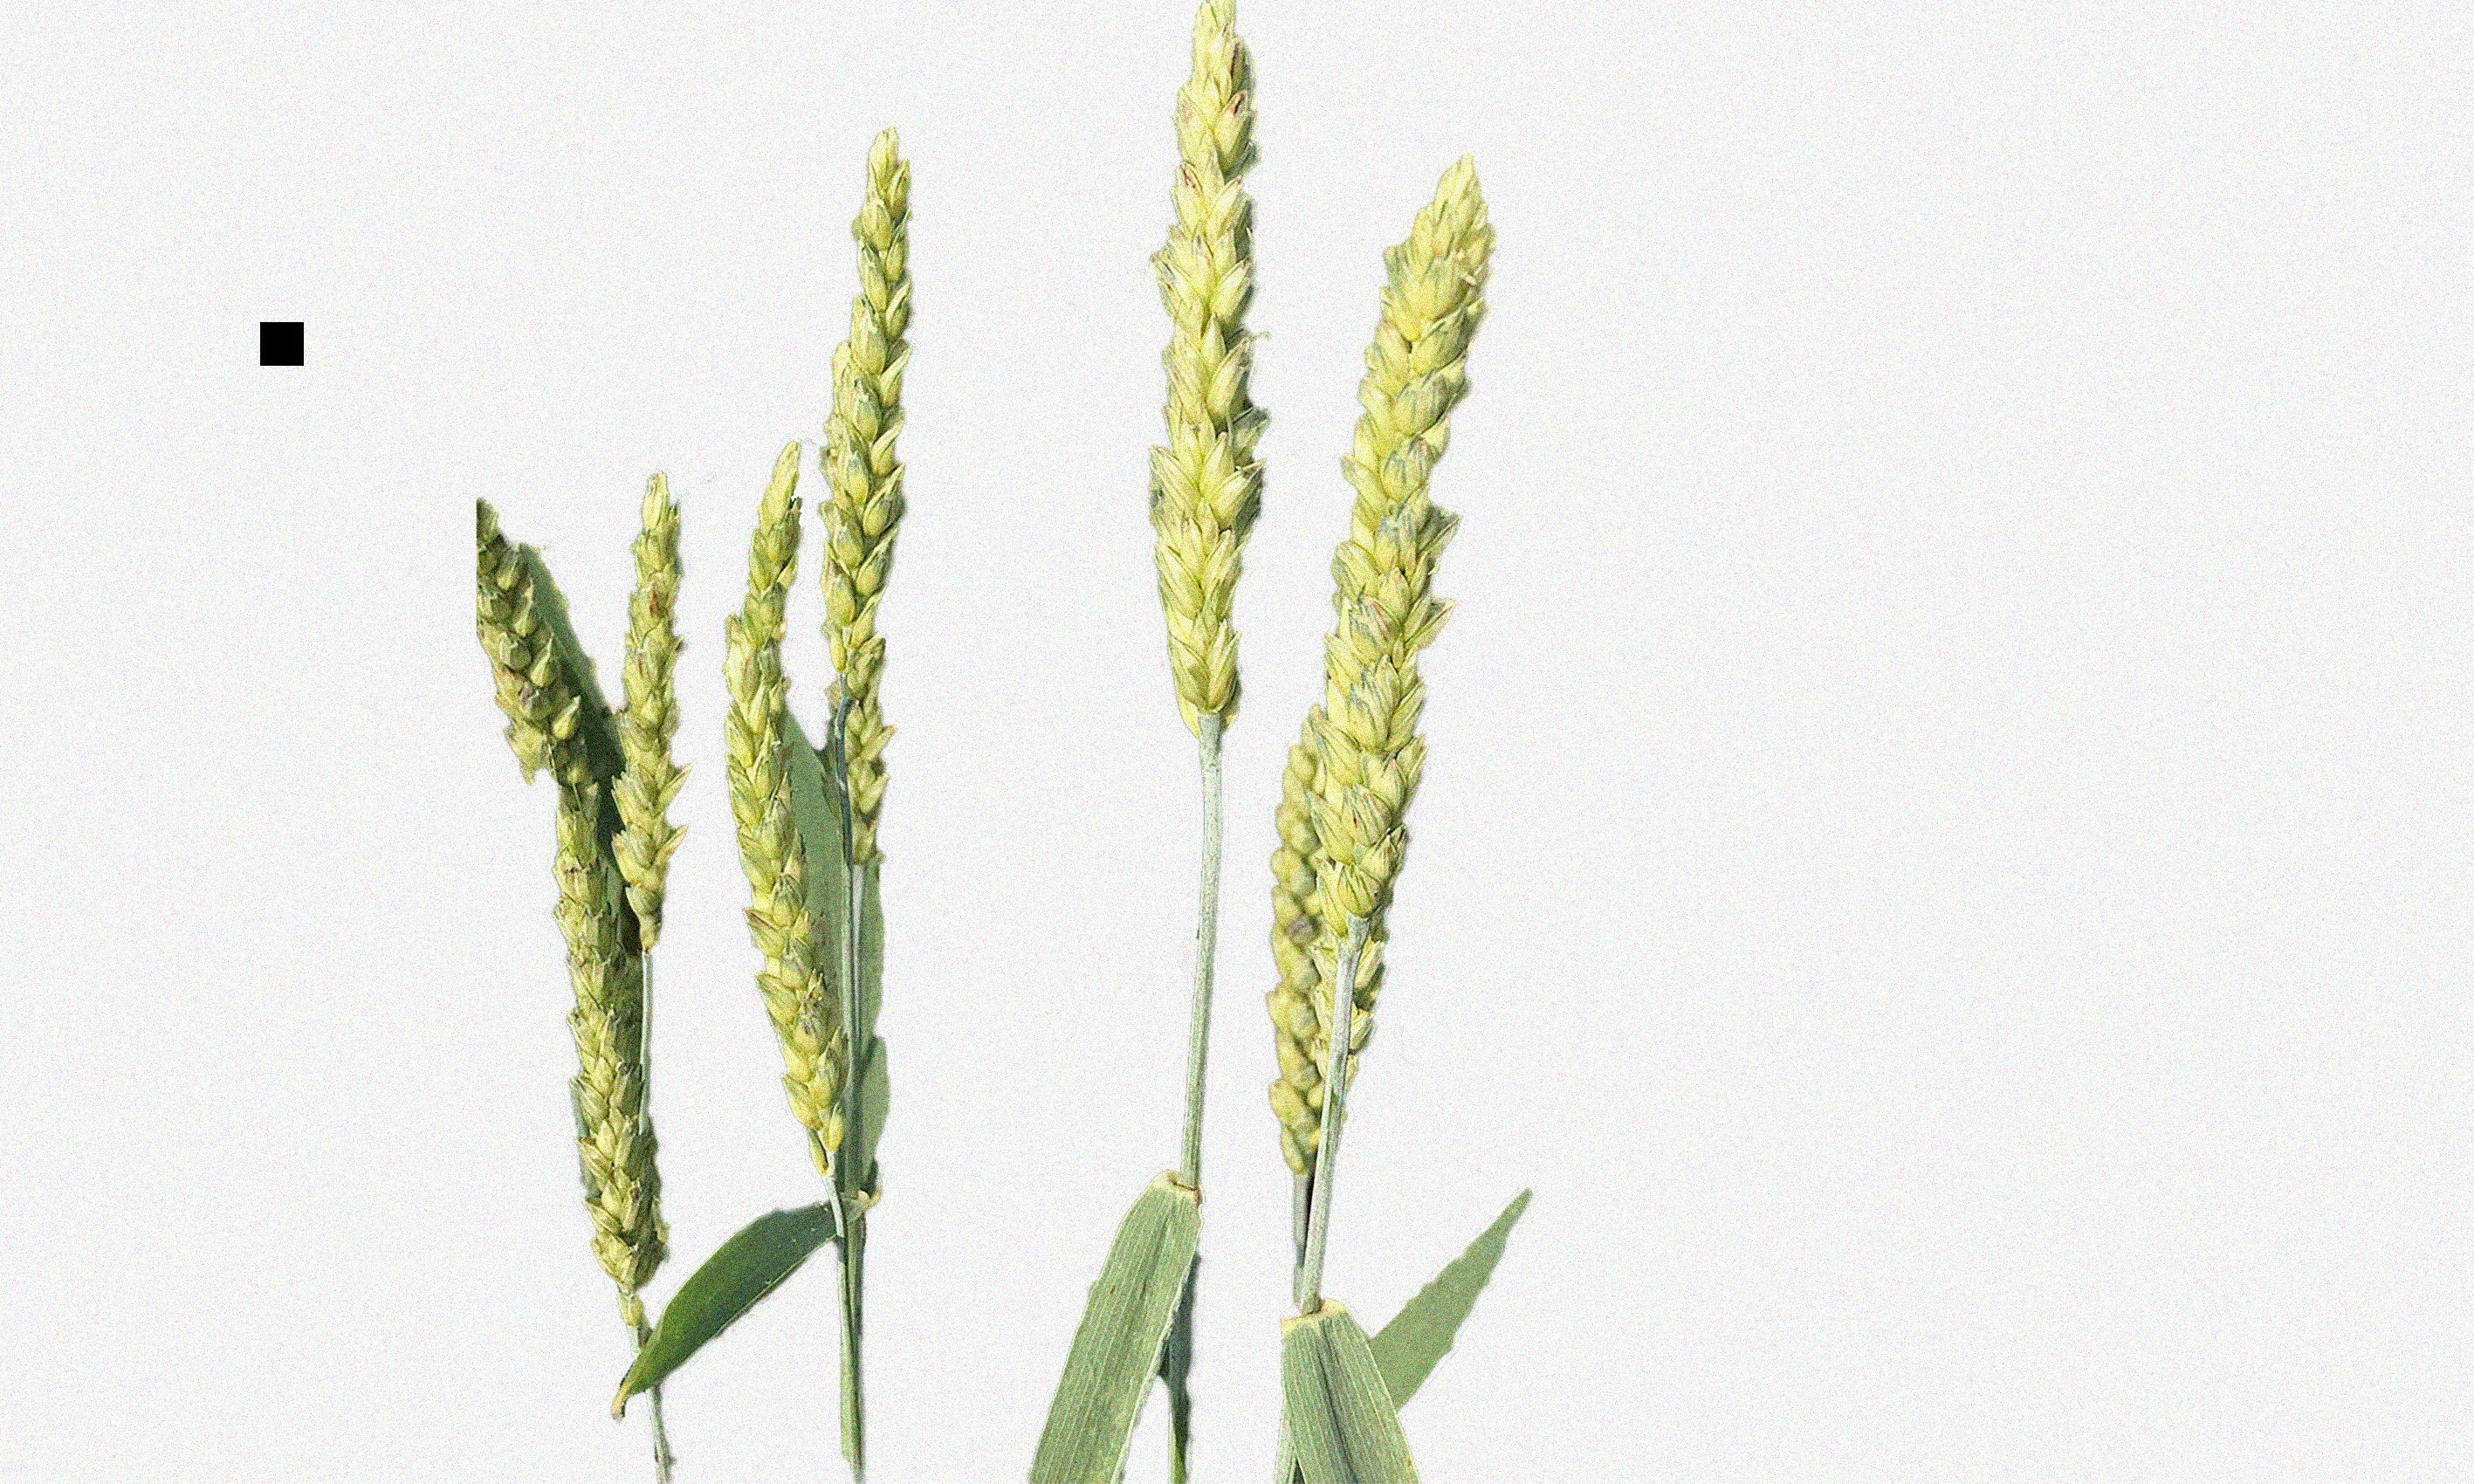wheat: (1257, 138, 1482, 1355), (717, 101, 934, 1283), (475, 435, 692, 1314), (1084, 5, 1280, 920)
